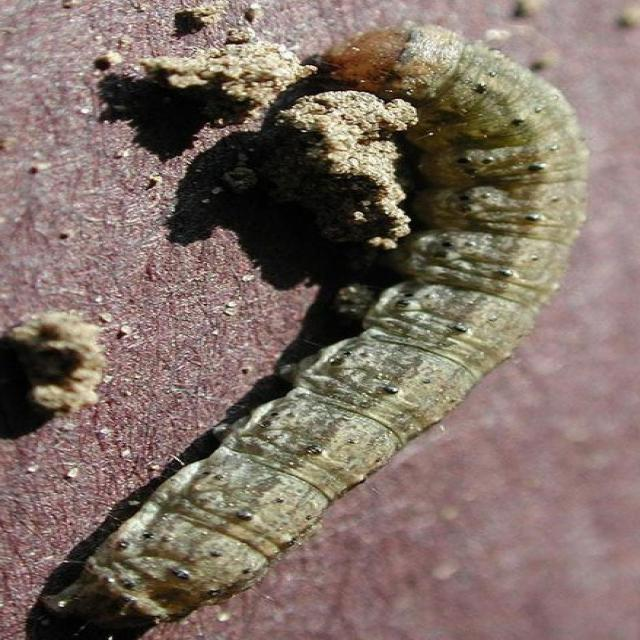black cutworm: (67, 26, 597, 630)
